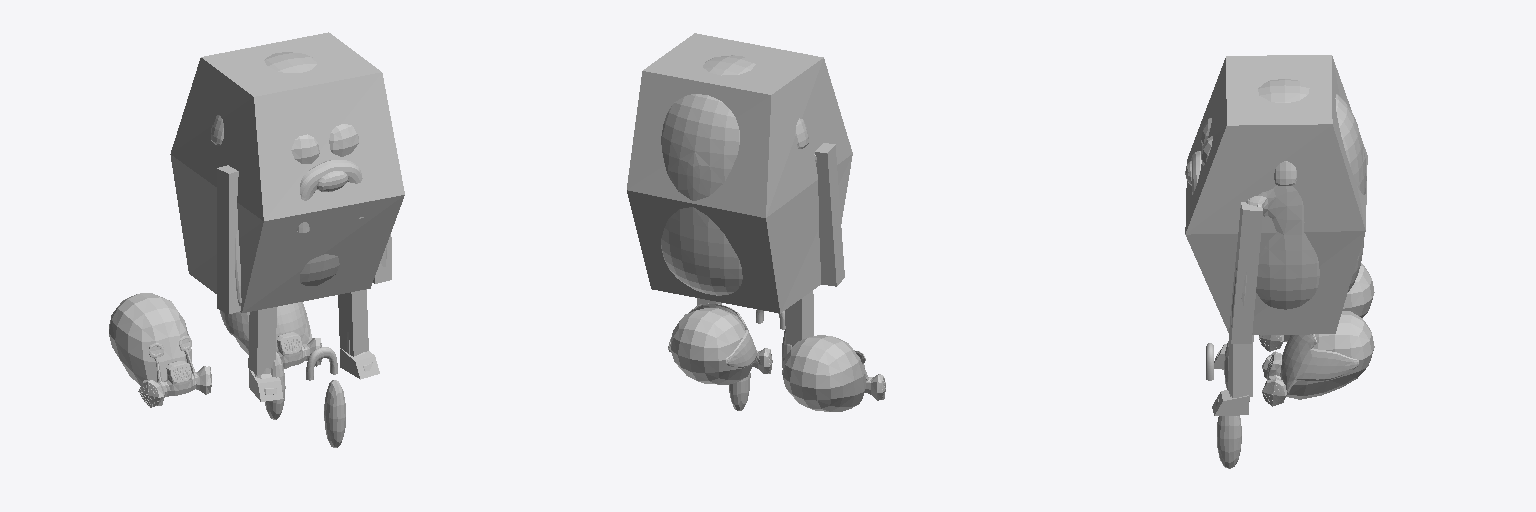
Rendered from Body.obj.
3 views of the same model, side by side, from view 1: azimuth 30°, elevation 25°; view 2: azimuth 150°, elevation 25°; view 3: azimuth 270°, elevation 25° (orthographic).
Visible parts, largest first — view 1: collision.001, Cube.004, NurbsPath.003_Mesh.003, collision.006_collision.002, Cube.013_Cube.016, Cube.002, collision.005_collision.004, Cube.003, collision.004_collision.003, Cube.009_Cube.011, Cube, collision.002_collision.006 (+3 smaller); view 2: collision.001, Cube.013_Cube.016, Cube.004, Cube.001, collision.006_collision.002, collision.004_collision.003, Cube.003; view 3: collision.001, Cube.013_Cube.016, collision, Cube.001, Cube.003, collision.005_collision.004, Cube.009_Cube.011, Cube.004, Cube, NurbsPath.003_Mesh.003, collision.002_collision.006.
Boxes of the visible parts, box(x1,y1,x2,y2) form: collision.001: box(170, 32, 404, 312); Cube.004: box(109, 293, 191, 396); NurbsPath.003_Mesh.003: box(291, 124, 363, 232); collision.006_collision.002: box(217, 165, 240, 313); Cube.013_Cube.016: box(211, 52, 386, 394); Cube.002: box(138, 336, 211, 407); collision.005_collision.004: box(338, 289, 368, 356); Cube.003: box(220, 302, 312, 351); collision.004_collision.003: box(248, 307, 276, 374); Cube.009_Cube.011: box(324, 380, 345, 447); Cube: box(277, 332, 321, 367); collision.002_collision.006: box(340, 348, 379, 379); collision.001: box(627, 33, 852, 313); Cube.013_Cube.016: box(661, 55, 816, 345); Cube.004: box(782, 335, 865, 411); Cube.001: box(670, 308, 752, 384); collision.006_collision.002: box(815, 143, 844, 286); collision.004_collision.003: box(785, 291, 813, 344); Cube.003: box(668, 303, 761, 367); collision.001: box(1185, 55, 1367, 334); Cube.013_Cube.016: box(1215, 79, 1366, 406); collision: box(1229, 202, 1262, 343); Cube.001: box(1286, 311, 1374, 399); Cube.003: box(1280, 334, 1358, 392); collision.005_collision.004: box(1228, 335, 1253, 397); Cube.009_Cube.011: box(1217, 416, 1241, 468); Cube.004: box(1284, 263, 1374, 341); Cube: box(1262, 351, 1286, 406); NurbsPath.003_Mesh.003: box(1185, 118, 1212, 194); collision.002_collision.006: box(1212, 390, 1248, 415).
Size of the model in its own units: 6.23 by 9.58 by 4.4.